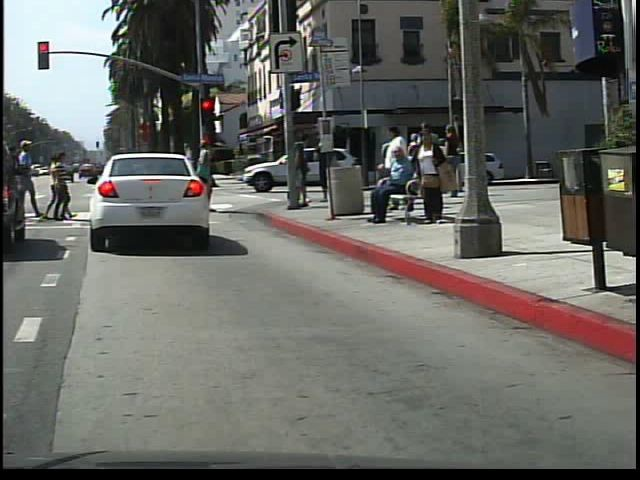person: (369, 148, 422, 227), (416, 127, 453, 226), (184, 135, 224, 220)
